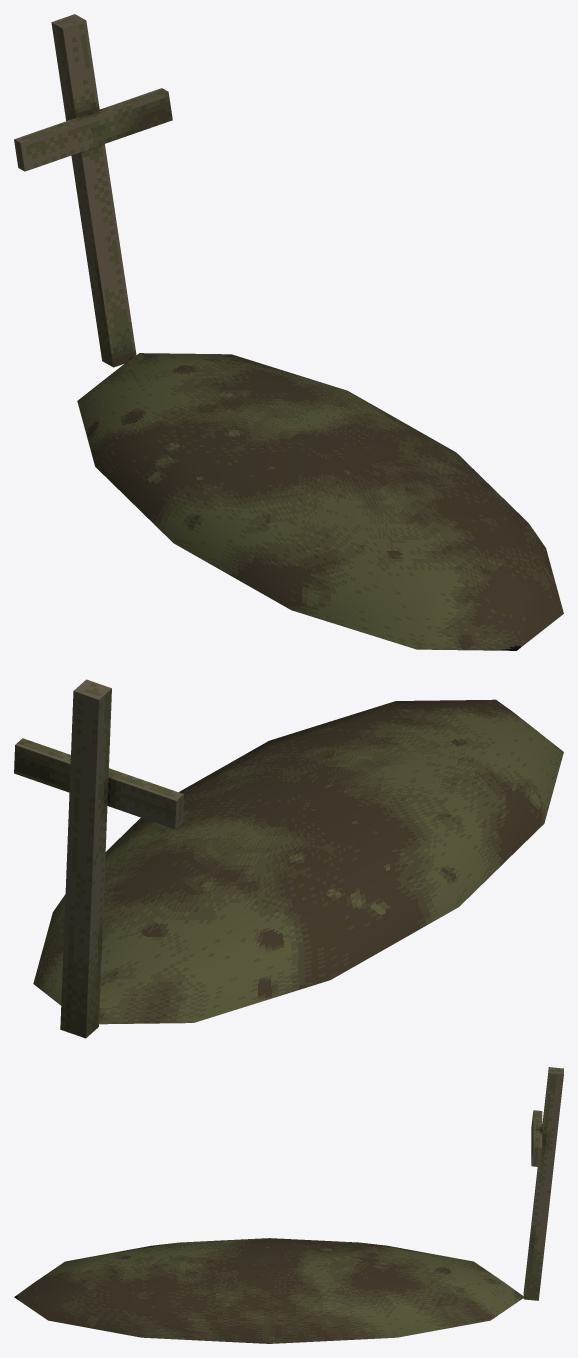
The model's file is Grave_Mound_01.glb.
The picture shows the model from 3 angles, top to bottom: view 1: azimuth 30°, elevation 25°; view 2: azimuth 150°, elevation 25°; view 3: azimuth 270°, elevation 25°; orthographic projection. The views are drawn at different scales.
Visible parts, largest first — view 1: Grave_Mound_01; view 2: Grave_Mound_01; view 3: Grave_Mound_01.
Boxes of the visible parts, x1,y1,x2,y2 form: Grave_Mound_01: (14,14,563,650); Grave_Mound_01: (14,679,563,1038); Grave_Mound_01: (14,1067,563,1343).
Bounding box in the file's own units: 0.8708 × 0.9533 × 2.16.
1 material, 1 textured.
